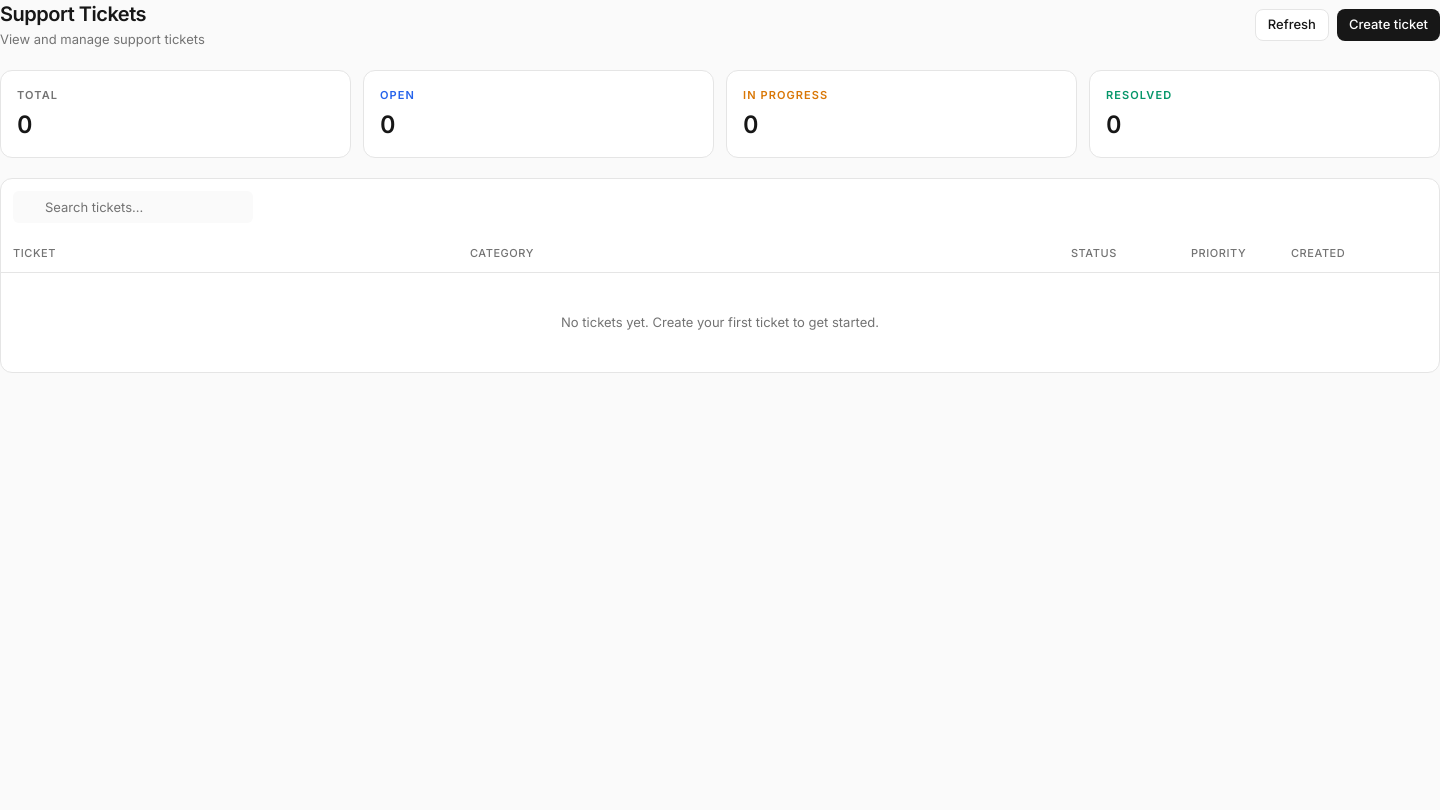
Test: SupportTicketsPage › shows validation errors for empty subject and description
Open modal
Click the button "Create ticket". click: (1388, 25)
box: x1=1337 y1=9 x2=1439 y2=41
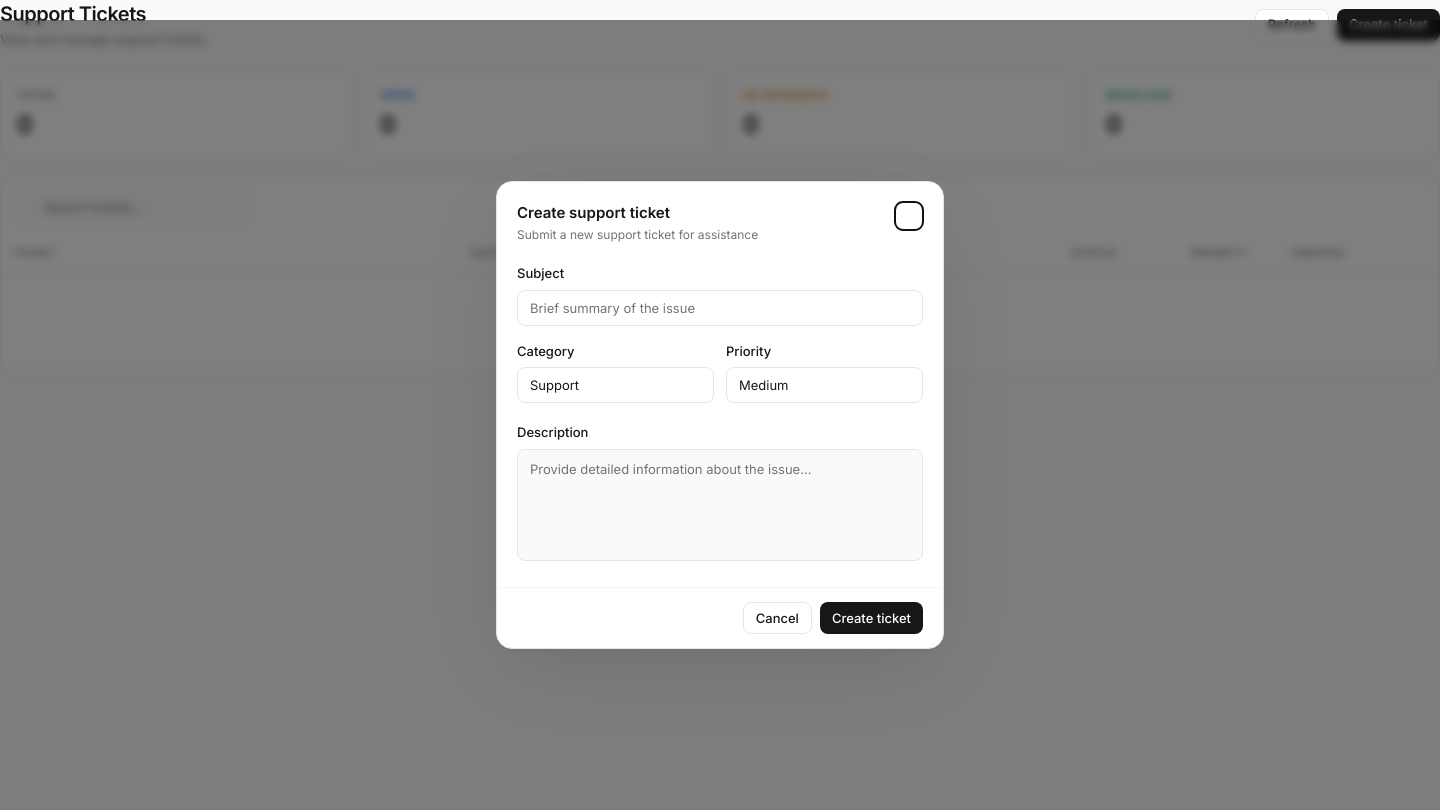
Expected: the heading "Create support ticket" is shown, x1=517 y1=203 x2=670 y2=222
Try to submit empty form — click the "Create ticket" button inside the modal footer
Click the button "Create ticket". click: (871, 618)
box: x1=820 y1=602 x2=923 y2=634
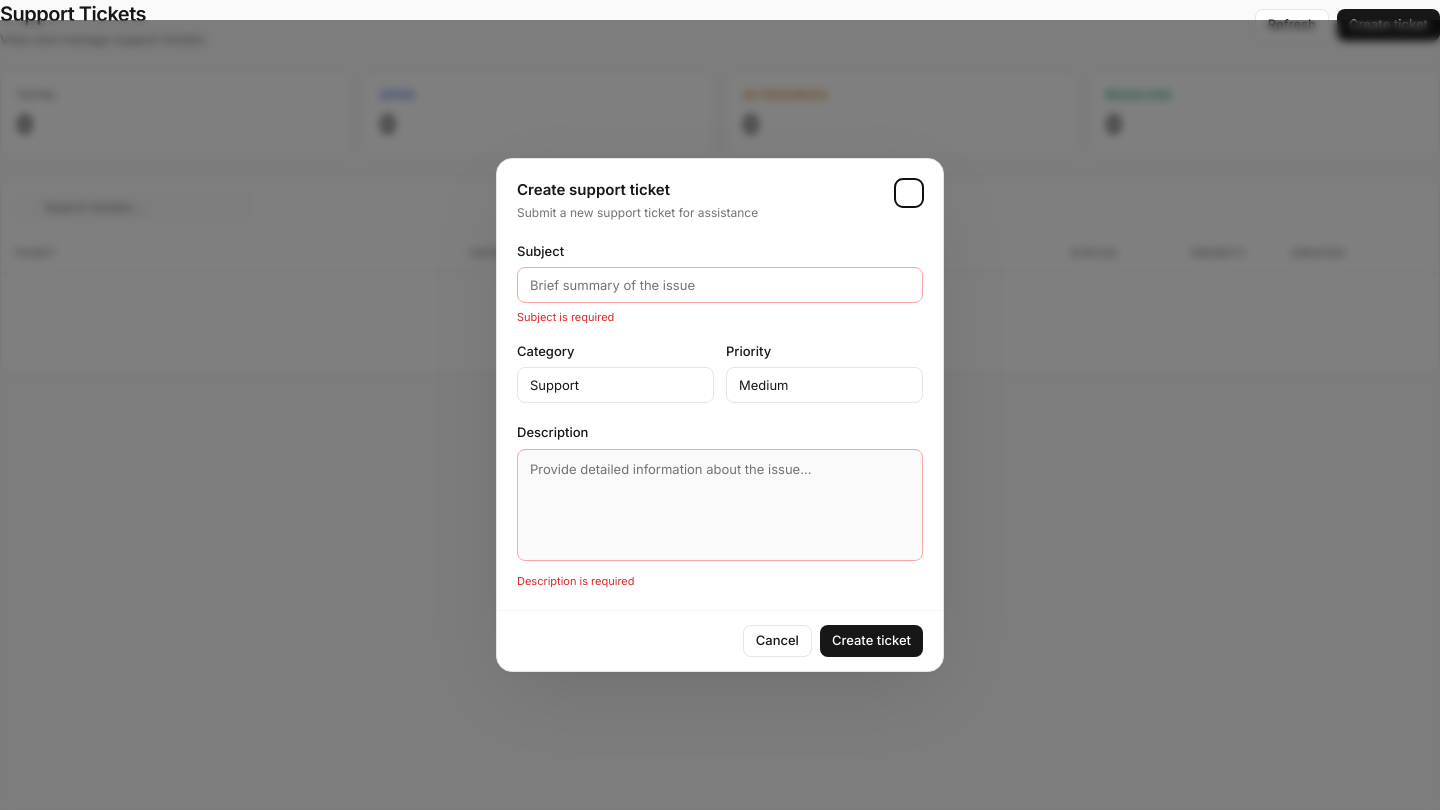
Expected: the text "Subject is required" is shown, x1=517 y1=310 x2=614 y2=324
Expected: the text "Description is required" is shown, x1=517 y1=574 x2=634 y2=588
